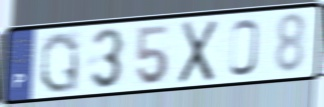0: (229, 17, 261, 78)
3: (84, 26, 129, 92)
5: (136, 22, 171, 87)
8: (273, 11, 309, 77)
Q: (38, 30, 81, 96)
X: (176, 17, 221, 86)
